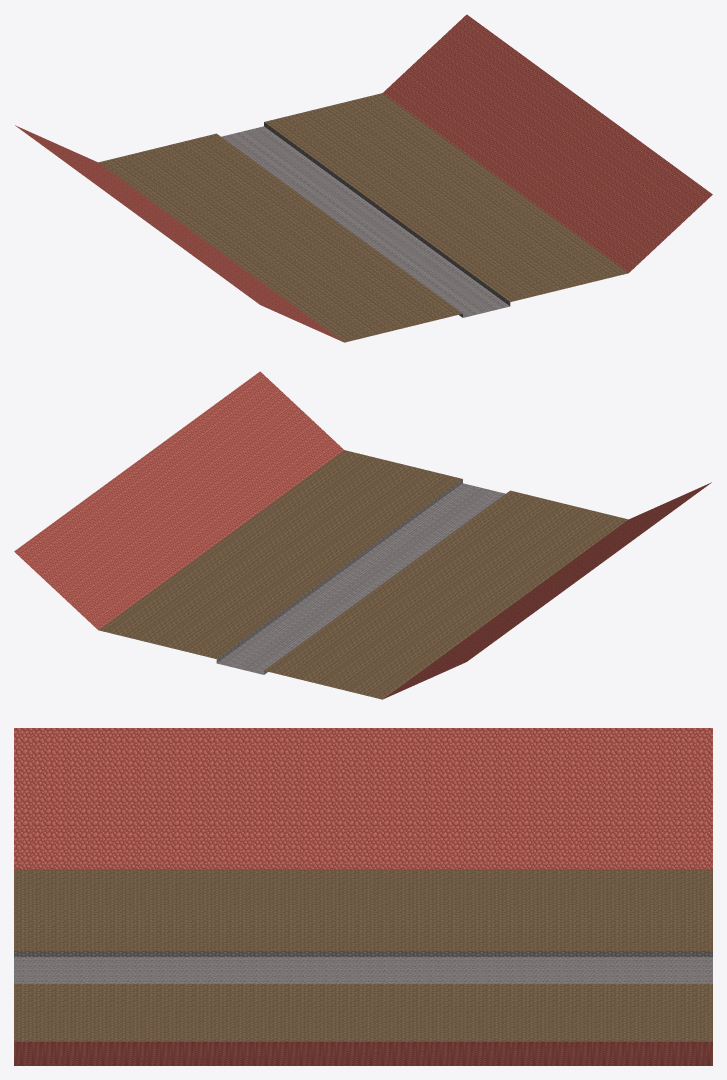
The model's file is Wey.fbx.
3 renders of one model, top to bottom at view 1: azimuth 30°, elevation 25°; view 2: azimuth 150°, elevation 25°; view 3: azimuth 270°, elevation 25°, orthographic. The views are drawn at different scales.
Parts seen in each view (by area): view 1: GRR, Sklon, Wey; view 2: GRR, Sklon, Wey; view 3: Sklon, GRR, Wey.
Boxes of the visible parts, bbox=[...] form: GRR: bbox=[98, 93, 628, 342]; Sklon: bbox=[15, 14, 712, 341]; Wey: bbox=[221, 122, 510, 317]; GRR: bbox=[98, 450, 628, 699]; Sklon: bbox=[14, 371, 711, 698]; Wey: bbox=[216, 479, 505, 674]; Sklon: bbox=[14, 728, 712, 1065]; GRR: bbox=[14, 869, 712, 1041]; Wey: bbox=[14, 951, 712, 983].
Bounding box in the file's own units: 1274 × 168 × 1200.
